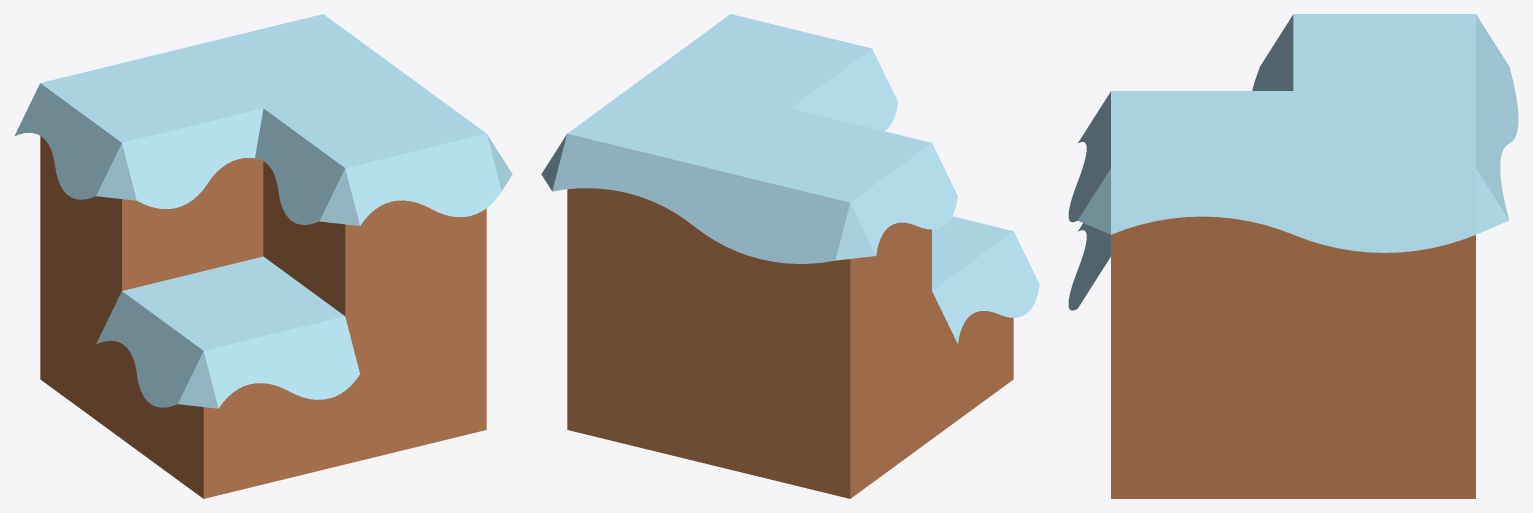
Rendered from blockSnowLevel.obj.
The picture shows the model from 3 angles, left to right: view 1: azimuth 30°, elevation 25°; view 2: azimuth 150°, elevation 25°; view 3: azimuth 270°, elevation 25°; orthographic projection. The views are drawn at different scales.
Visible parts, largest first — view 1: blockSnowLevel; view 2: blockSnowLevel; view 3: blockSnowLevel.
Boxes of the visible parts, left/top/right/bottom form: blockSnowLevel: left=14, top=14, right=512, bottom=498; blockSnowLevel: left=541, top=14, right=1039, bottom=498; blockSnowLevel: left=1068, top=14, right=1518, bottom=498.
Bounding box in the file's own units: 1.23 × 1 × 1.23.
